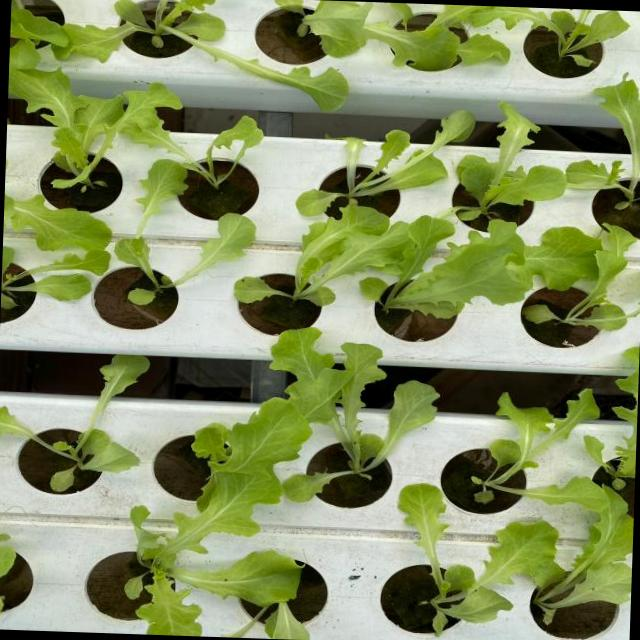Lettuce-Not-Ready-to-Harvest: (52, 0, 347, 110), (124, 471, 300, 635), (271, 327, 437, 500), (397, 483, 564, 633), (114, 159, 256, 305), (0, 354, 148, 492), (9, 70, 180, 187), (295, 110, 474, 215), (234, 202, 408, 306), (360, 216, 532, 318), (473, 389, 609, 512), (453, 103, 566, 223), (522, 225, 635, 330), (303, 0, 460, 70), (540, 490, 633, 608), (123, 115, 263, 187), (466, 6, 628, 68), (565, 74, 640, 203), (193, 399, 311, 472), (0, 246, 110, 309)
